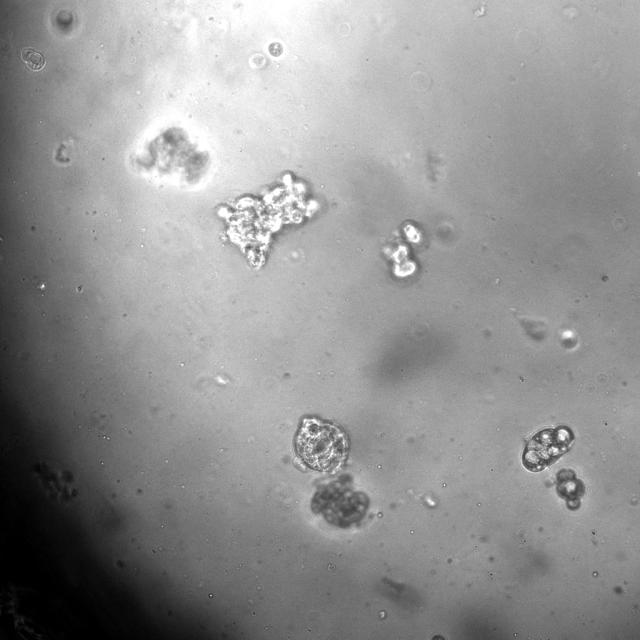organoid: (215, 171, 320, 269), (126, 121, 212, 190), (293, 415, 350, 473), (310, 473, 369, 528), (382, 219, 428, 280), (521, 425, 574, 473), (555, 468, 585, 510), (21, 47, 45, 71), (56, 9, 72, 31), (269, 42, 282, 57), (431, 634, 446, 639)
